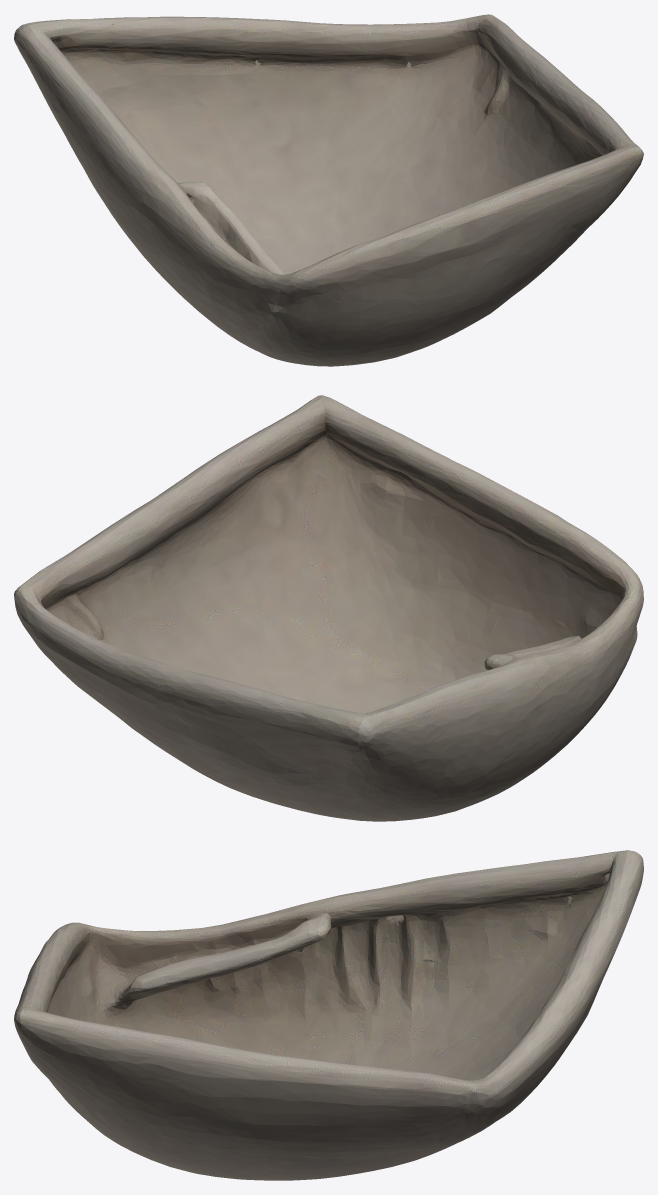
Rendered from woven_basket_on_floor_near_jars_000.glb.
3 renders of one model, top to bottom at view 1: azimuth 30°, elevation 25°; view 2: azimuth 150°, elevation 25°; view 3: azimuth 270°, elevation 25°, orthographic. The views are drawn at different scales.
Parts seen in each view (by area): view 1: phase2_final_woven_basket_on_floor_near_jars_000.obj; view 2: phase2_final_woven_basket_on_floor_near_jars_000.obj; view 3: phase2_final_woven_basket_on_floor_near_jars_000.obj.
Part boxes in pixels (left/top/right/bottom): phase2_final_woven_basket_on_floor_near_jars_000.obj: left=14, top=14, right=643, bottom=366; phase2_final_woven_basket_on_floor_near_jars_000.obj: left=14, top=395, right=643, bottom=821; phase2_final_woven_basket_on_floor_near_jars_000.obj: left=14, top=850, right=643, bottom=1180.
Bounding box in the file's own units: 0.1499 × 0.0761 × 0.1835.
Materials: 1 (1 with a texture image).
